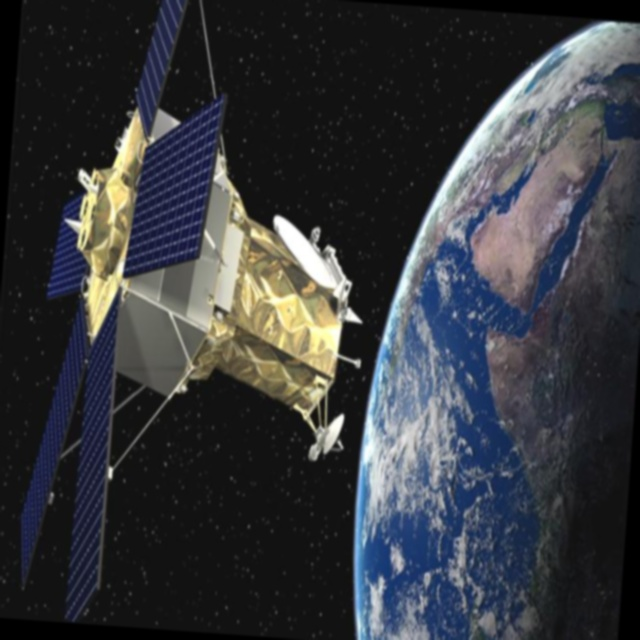satellite: (7, 0, 387, 640)
